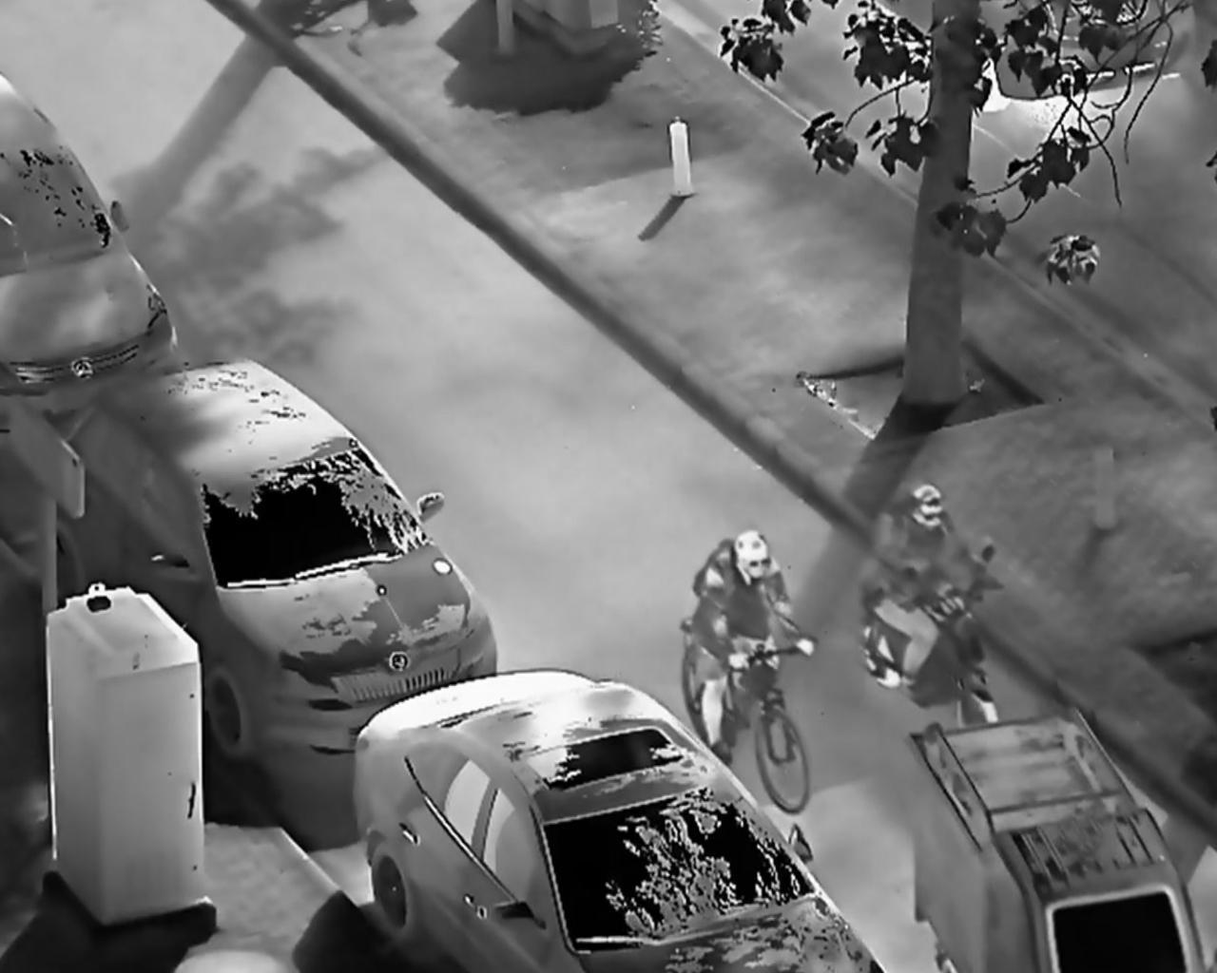person: (685, 529, 815, 765), (867, 480, 976, 692)
